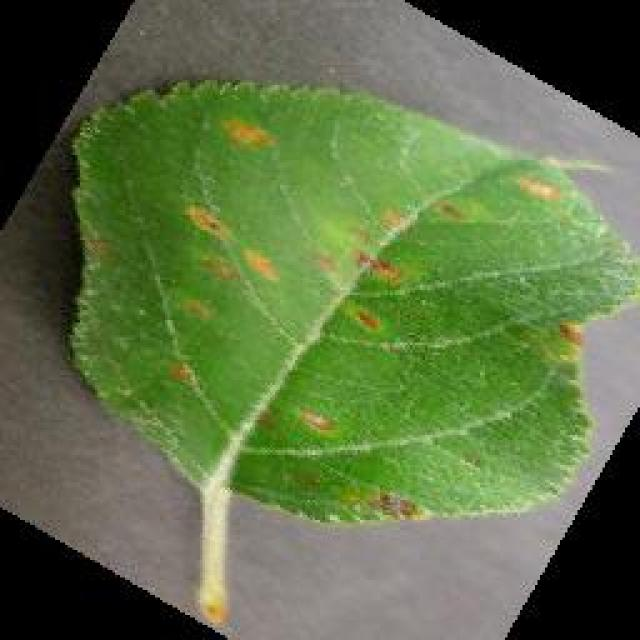apple cedar apple rust: (60, 73, 638, 625)
